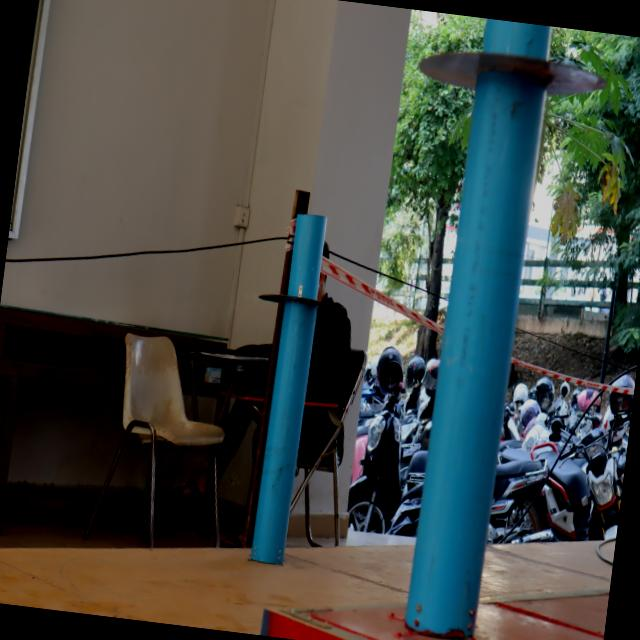pole: (394, 9, 614, 210), (245, 204, 352, 398)
